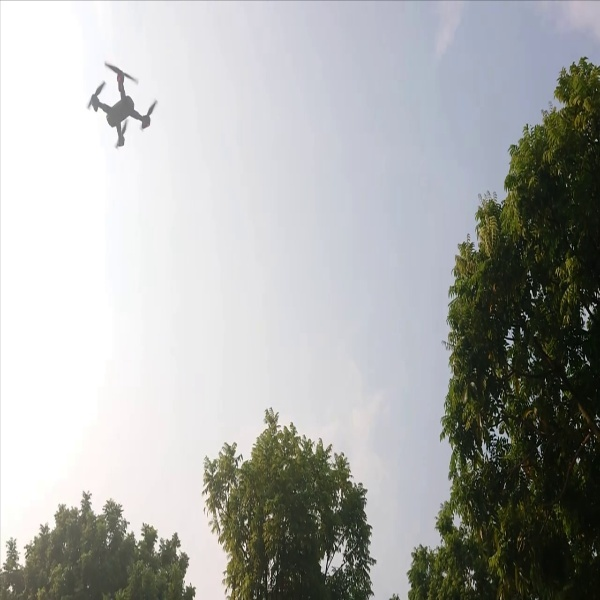drone: (77, 57, 165, 151)
